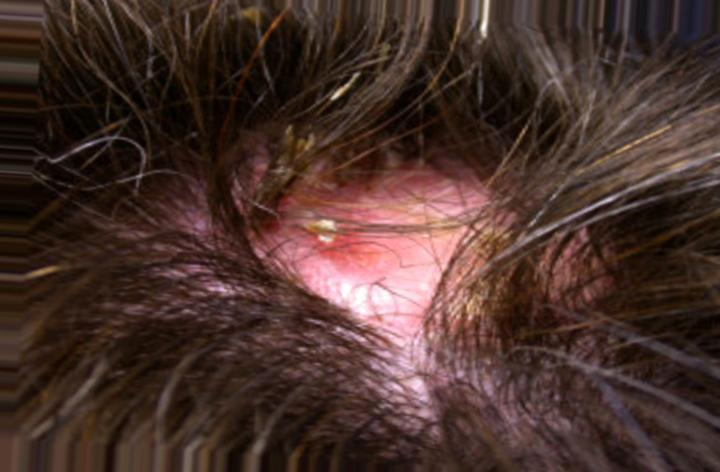Folliculitis: (201, 141, 476, 314)
